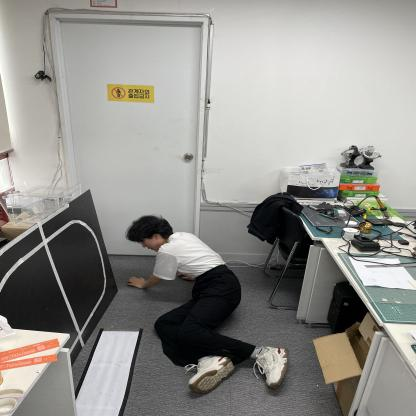fall: (123, 206, 299, 394)
